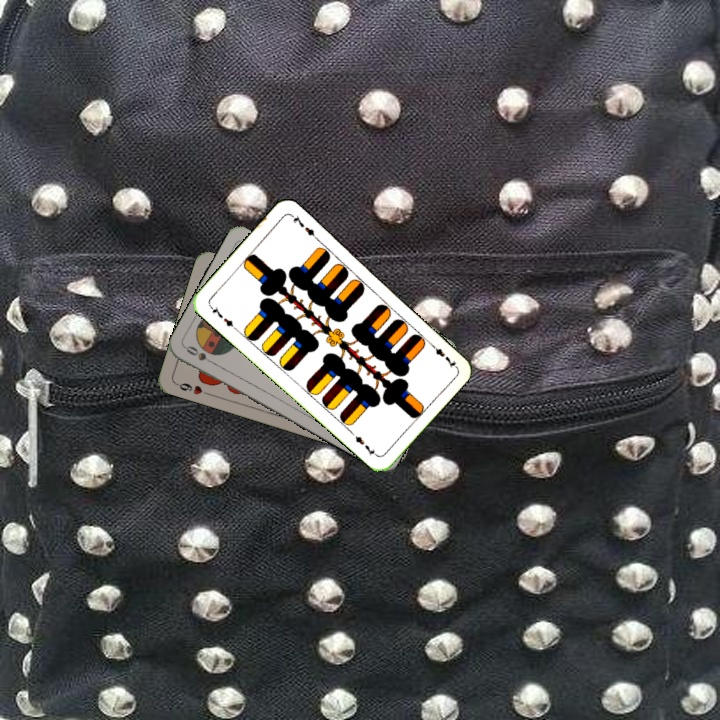E7: (425, 339, 459, 371), (206, 301, 239, 332)
H9: (172, 379, 211, 397)
SO: (182, 342, 219, 368)
